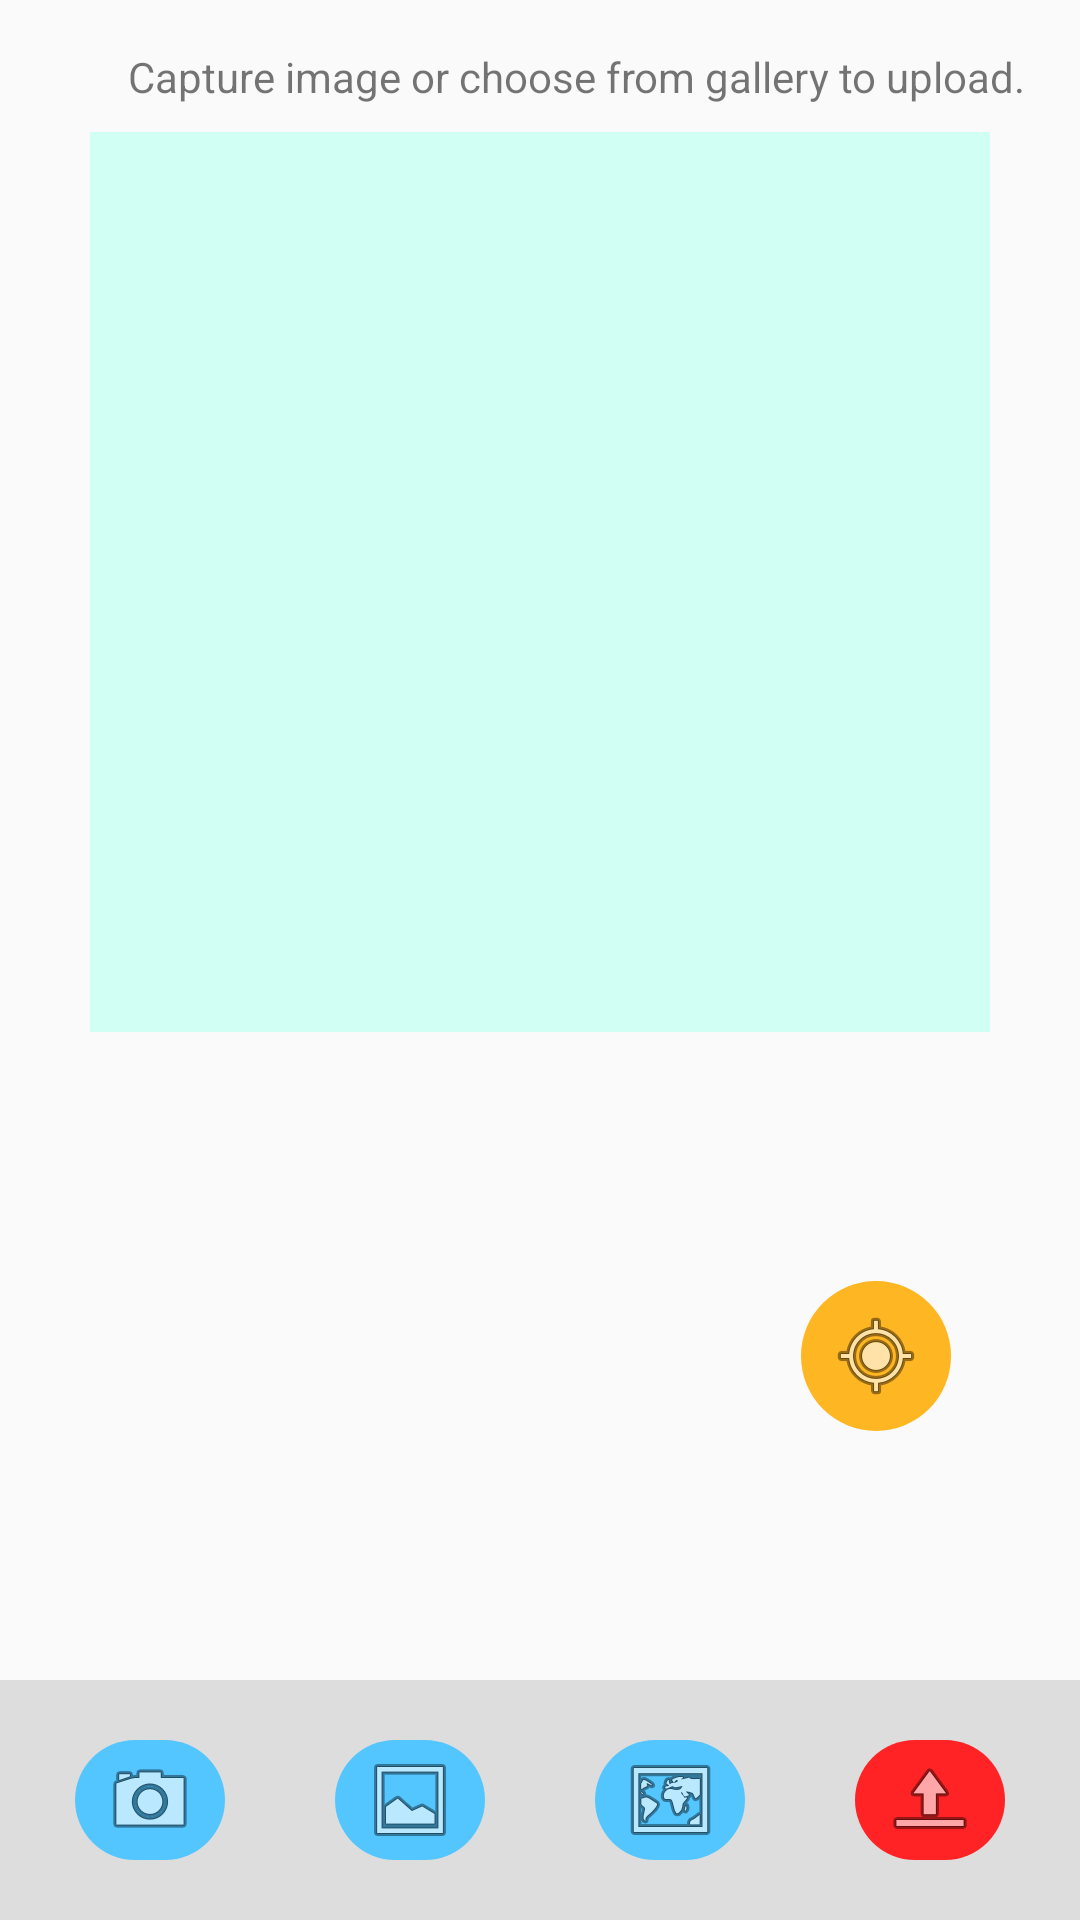

Icon bounding boxes for this 1080px x 1920px phone screenshot, format {"x1": x1, "y1": y1, "x2": x2, "y2": y2}:
camera: {"x1": 75, "y1": 1740, "x2": 225, "y2": 1860}
gallery: {"x1": 335, "y1": 1740, "x2": 485, "y2": 1860}
mapmode: {"x1": 595, "y1": 1740, "x2": 745, "y2": 1860}
mylocation: {"x1": 801, "y1": 1281, "x2": 951, "y2": 1431}
upload: {"x1": 855, "y1": 1740, "x2": 1005, "y2": 1860}
